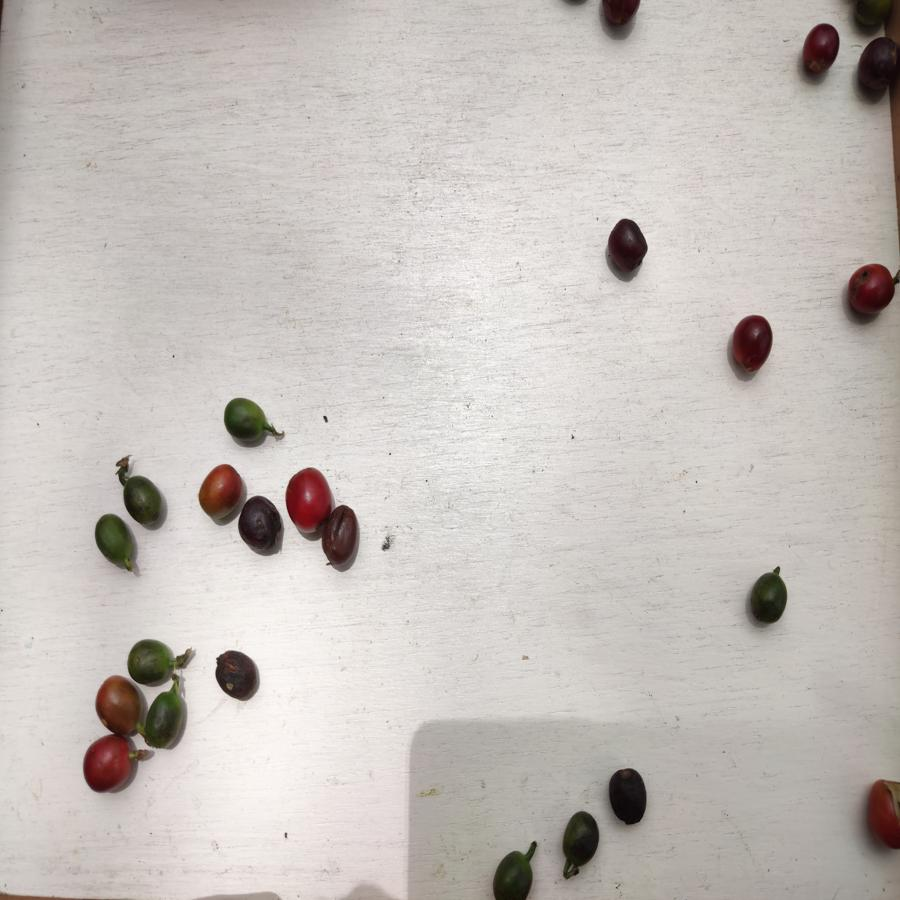Inmaduro: (142, 687, 184, 750), (128, 637, 179, 687), (557, 811, 600, 867), (490, 850, 538, 900), (92, 514, 137, 566), (221, 396, 267, 444), (120, 476, 163, 527), (751, 574, 787, 626)
Maduro: (284, 465, 329, 535), (80, 736, 133, 795), (863, 774, 900, 854), (847, 262, 893, 320)
Pinton: (96, 678, 142, 736), (198, 463, 238, 519)
Sobremaduro: (603, 217, 653, 278), (210, 646, 262, 702), (731, 312, 775, 374), (858, 34, 899, 98), (607, 767, 649, 827), (237, 497, 283, 551), (799, 22, 843, 78), (323, 503, 358, 564), (599, 1, 642, 32)
